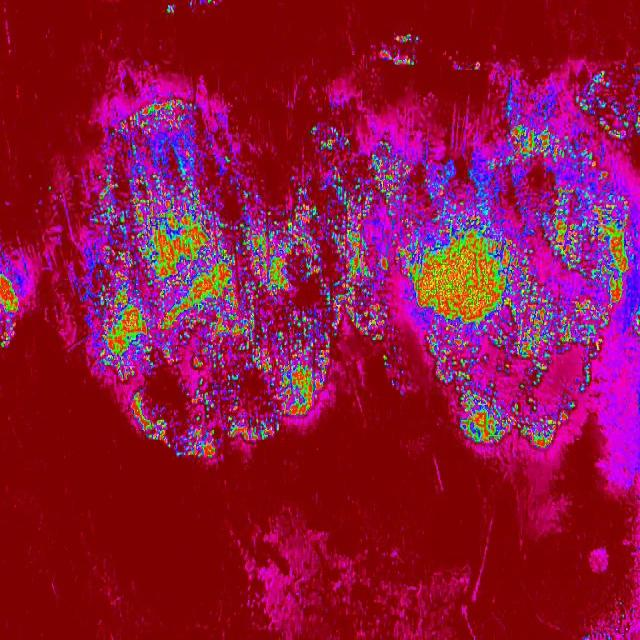fire: (417, 115, 640, 454), (75, 96, 232, 357), (231, 175, 417, 356), (95, 357, 327, 411), (132, 411, 281, 460), (507, 63, 640, 115), (304, 123, 416, 176), (0, 245, 32, 349), (371, 32, 421, 72)
